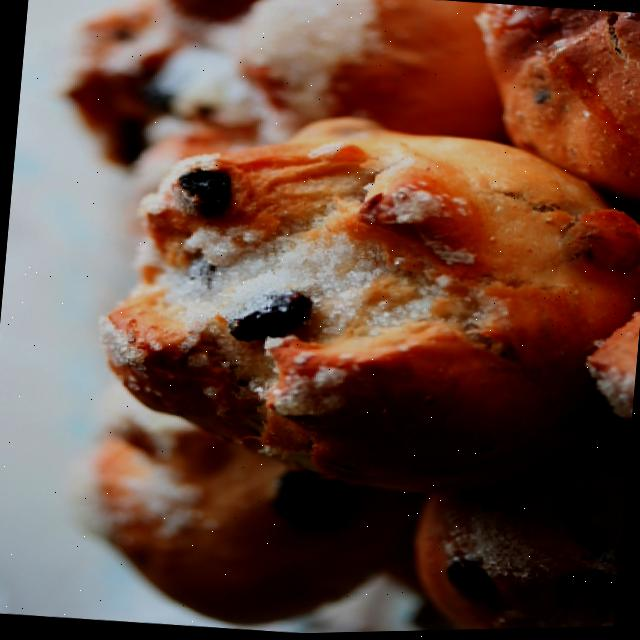面包点心: (50, 0, 640, 639)
